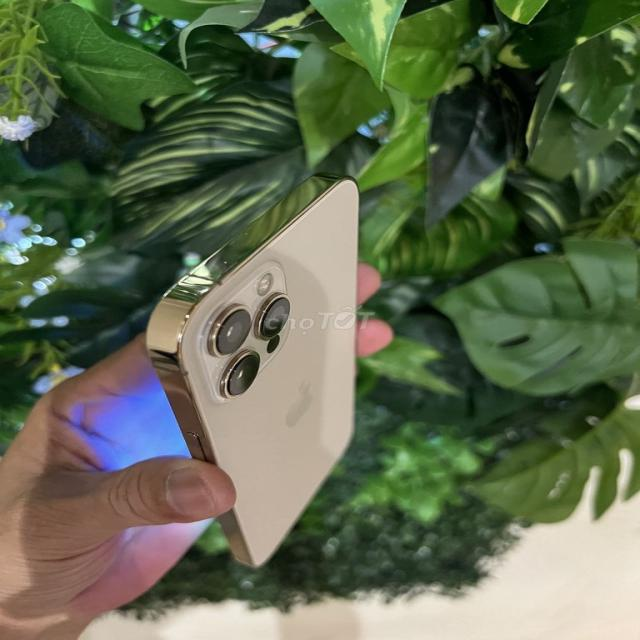gen_12_13: (127, 172, 373, 568)
